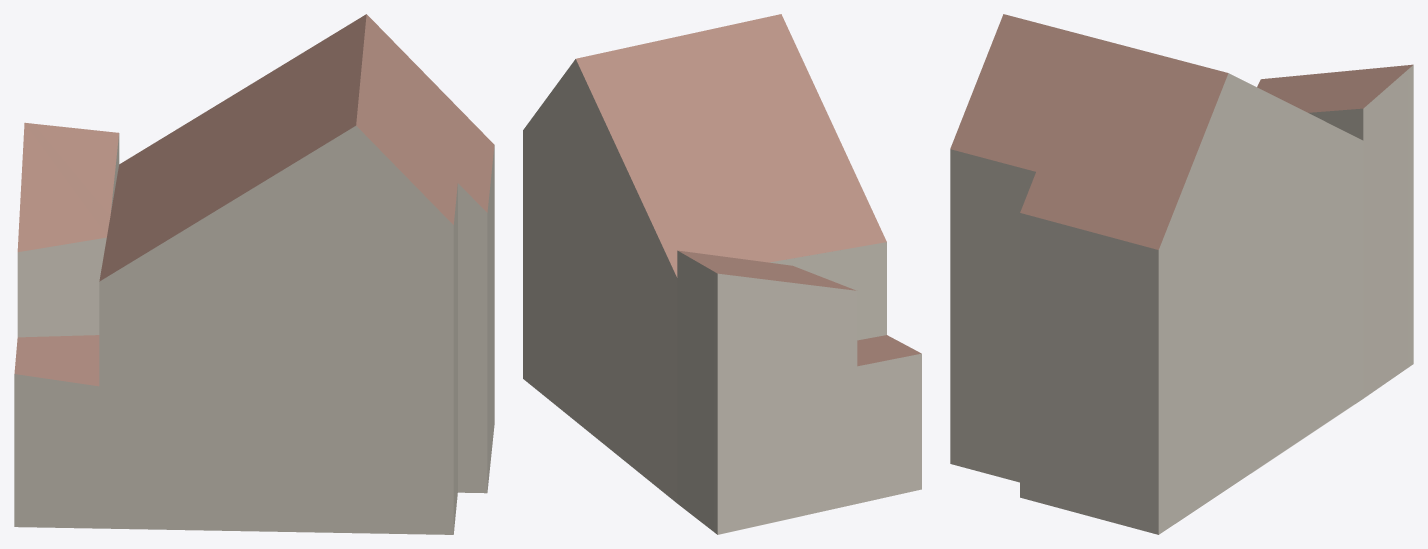
The picture shows the model from 3 angles, left to right: view 1: azimuth 30°, elevation 25°; view 2: azimuth 150°, elevation 25°; view 3: azimuth 270°, elevation 25°; orthographic projection. The views are drawn at different scales.
Bounding box in the file's own units: 11.78 × 9.9 × 10.01.
